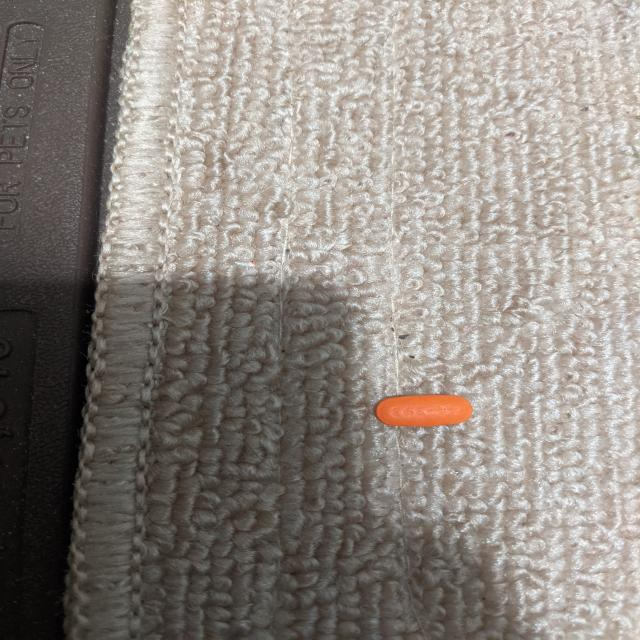non-organic waste: (373, 393, 476, 427)
